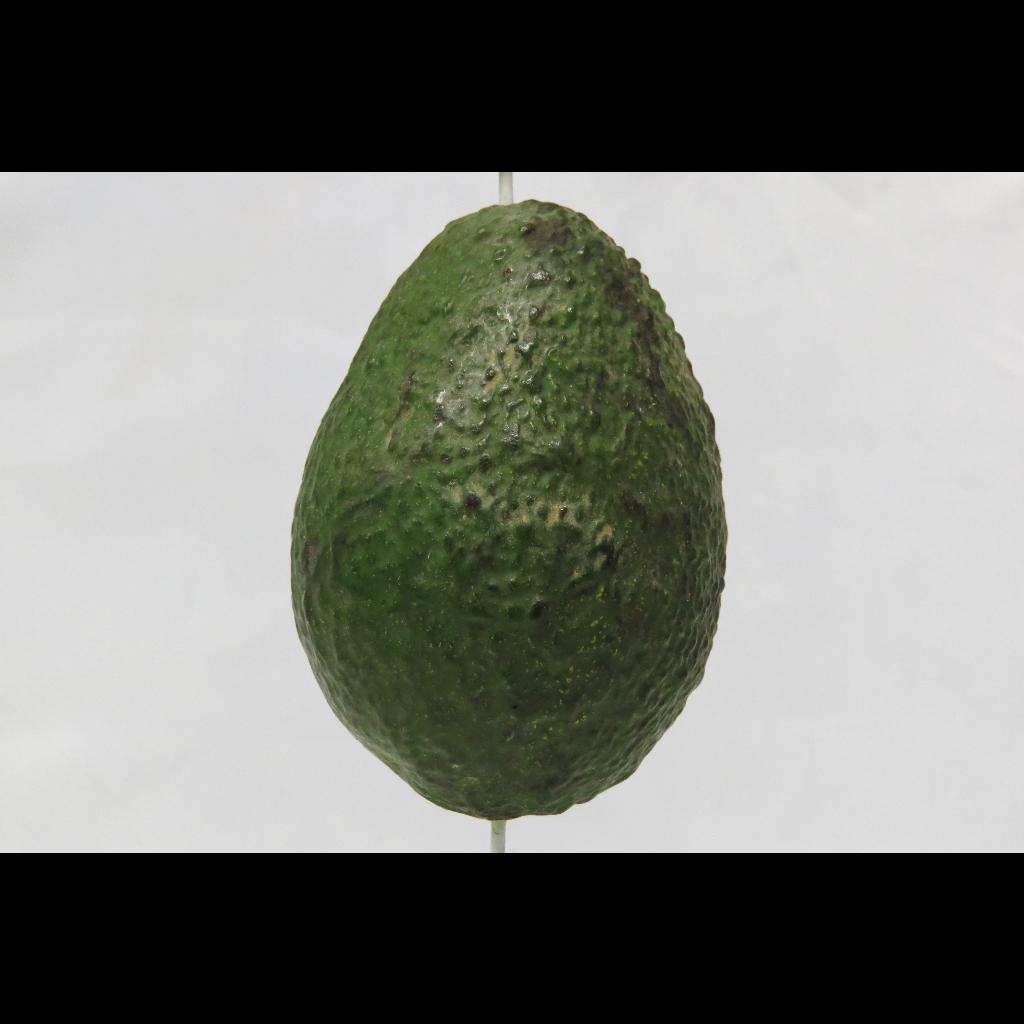fruto_sano: (249, 181, 760, 835)
